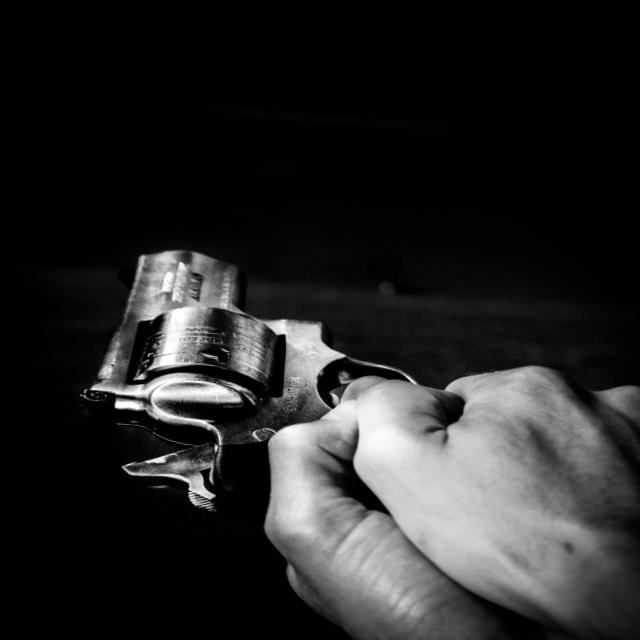handgun: (70, 237, 550, 517)
